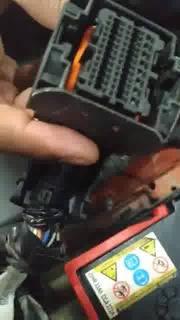connector: (25, 1, 180, 155)
